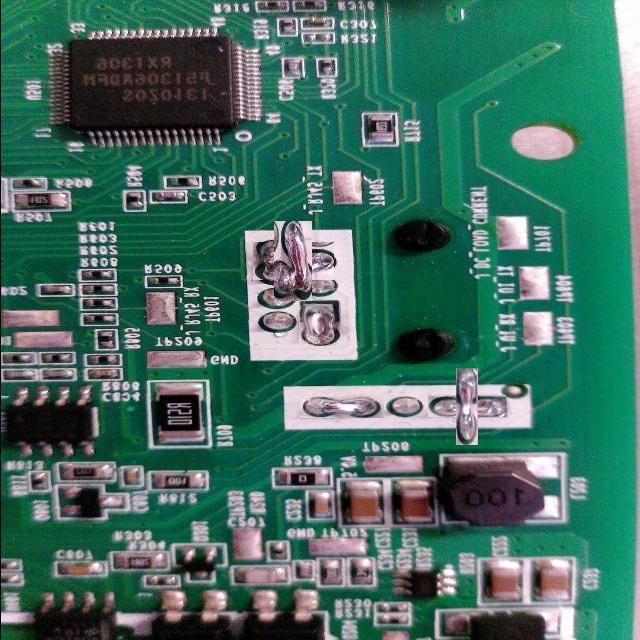Short_circuit: (264, 231, 323, 291), (442, 382, 492, 432), (298, 298, 341, 346), (300, 394, 384, 418)
